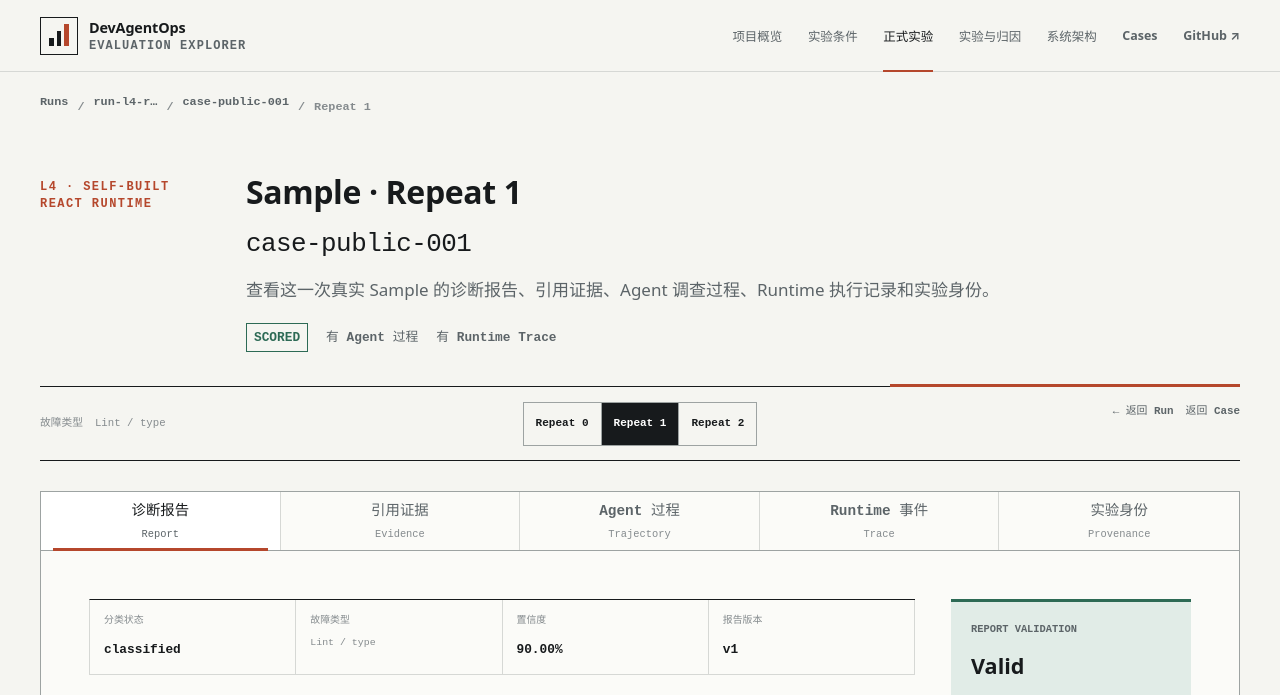
Scenario: Phase 2C public Evaluation Explorer › presents unavailable Trajectory as a valid empty state, not an API error
Click the tab "Agent 过程 Trajectory" at (640, 521), box [520,492,760,550]
(page scrolled)
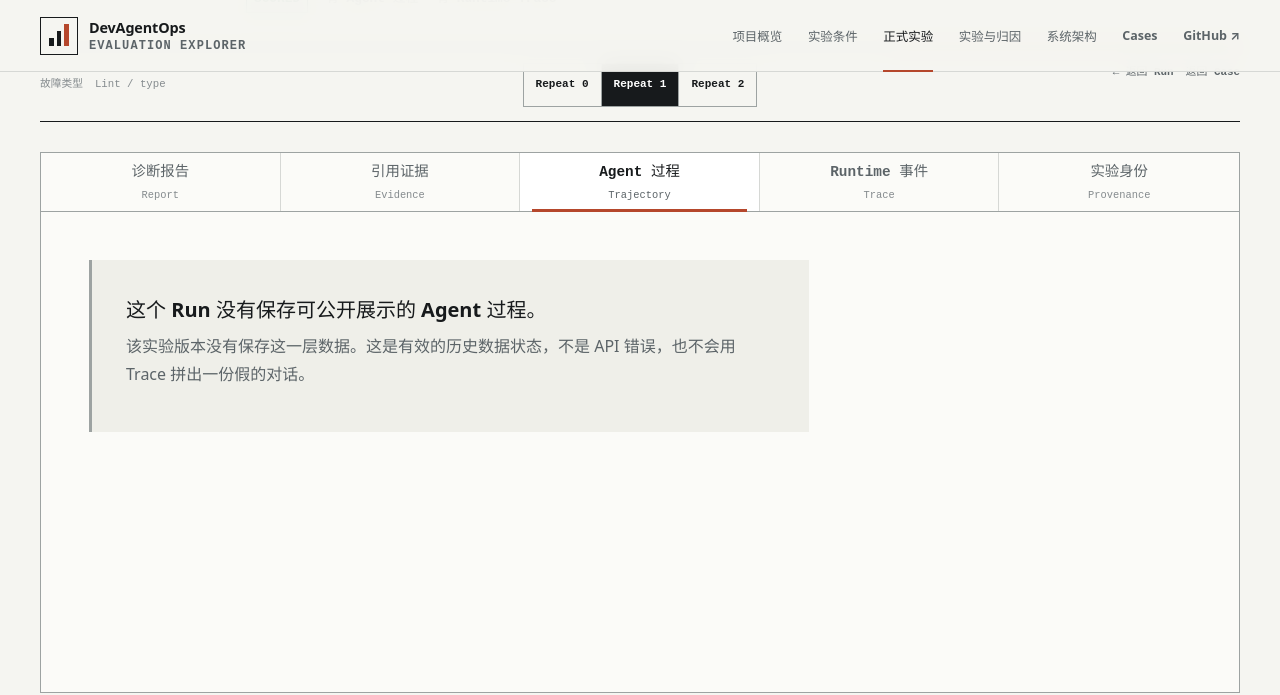
Expected: the heading named "此 Run 没有可公开展示的 Trajectory。" is shown, [126,296,546,323]
Expected: the text "该实验版本没有保存这一层数据。这是有效的历史数据状态，不是 API 错误，也不会用 Trace 拼出一份假的对话。" is shown, [126,333,775,388]
